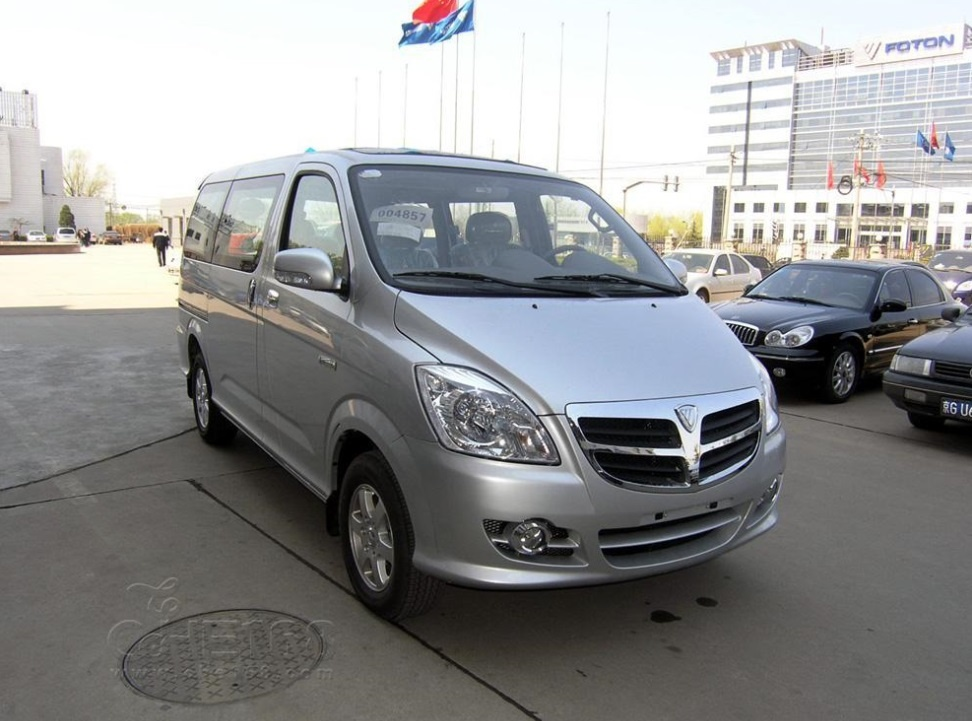minibus: (143, 137, 803, 614)
